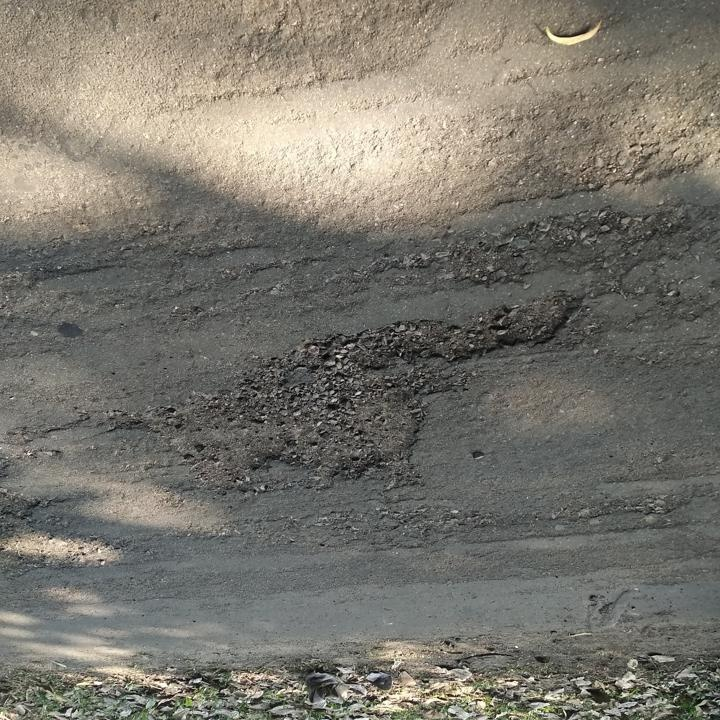pothole: (96, 285, 584, 498), (0, 483, 44, 526)
